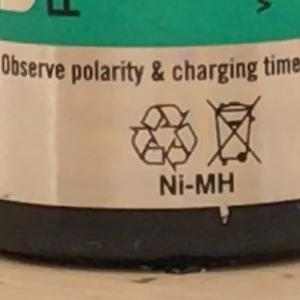keyword: (150, 162, 244, 206)
